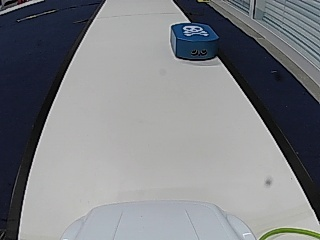danger: (182, 24, 207, 36)
